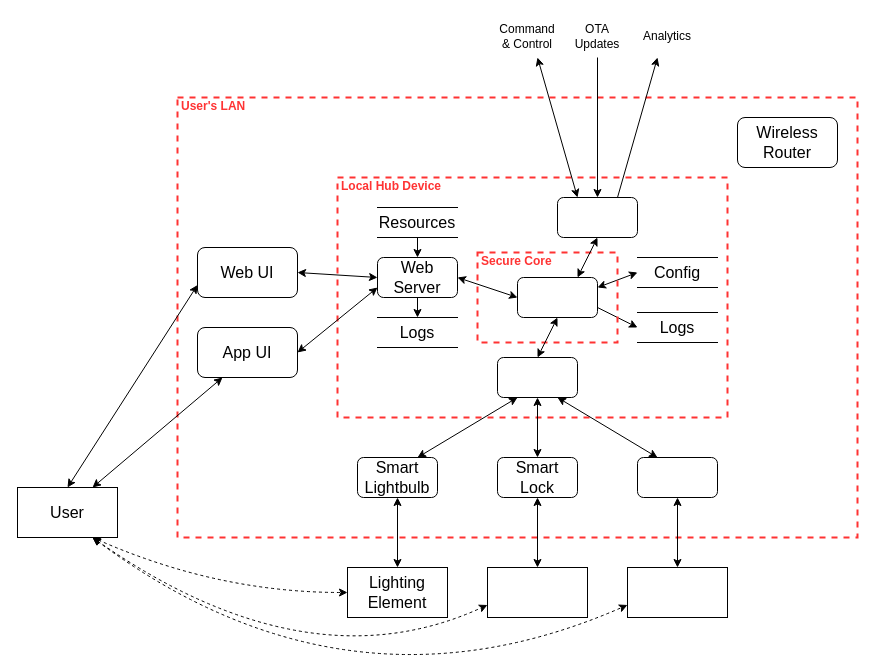
The diagram is 876 pixels wide and 672 high, and some of its shapes have lost their labels. Each missing label, with the centre of its shape:
"Camera Doorbell" goes at point 677,477.
"Core" goes at point 557,297.
"Device Comms" goes at point 537,377.
"Doorbell" goes at point 677,592.
"Internet Comms" goes at point 597,217.
"Locking Mechanism" goes at point 537,592.
